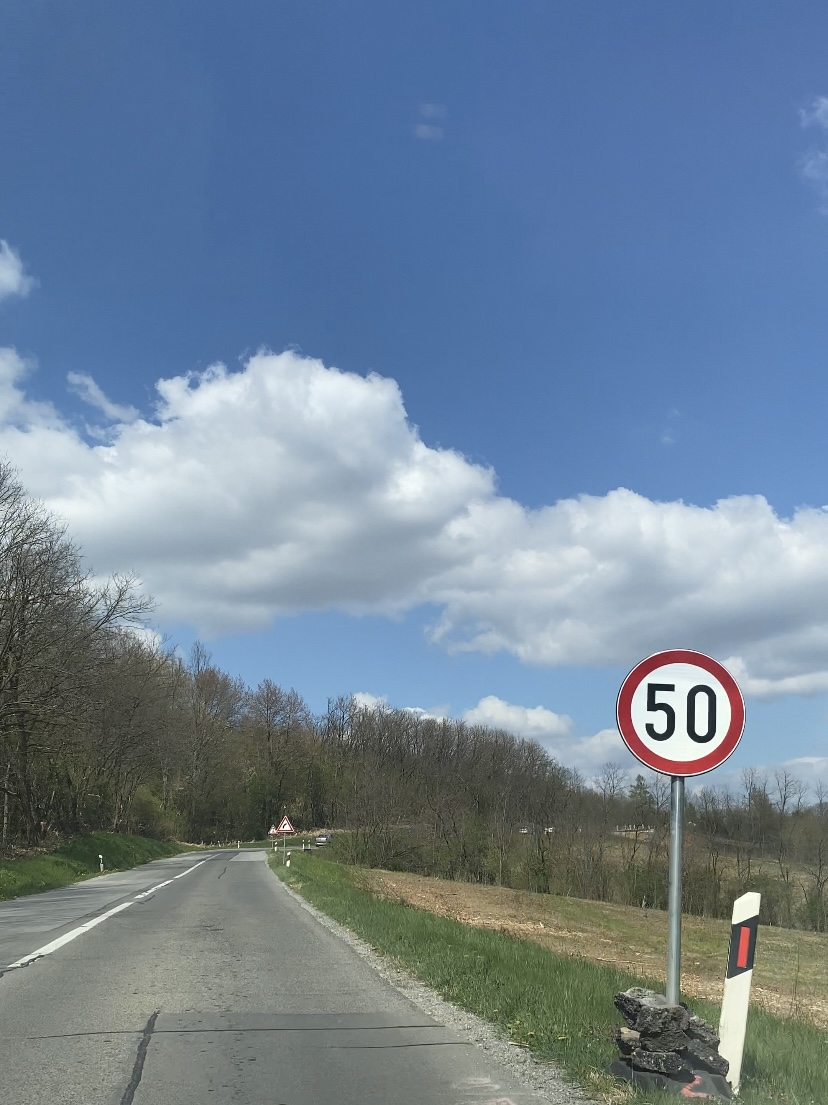Ograničenje brzine 50: (616, 649, 745, 777)
